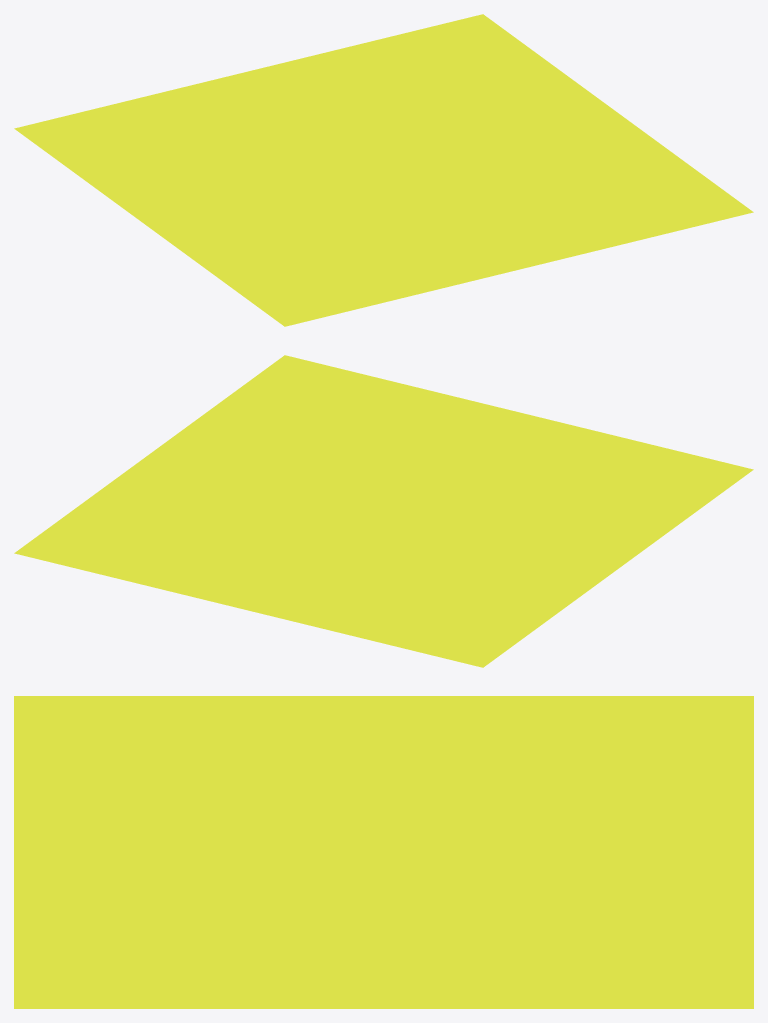
The model's file is TOP_YELLOW.gltf.
3 renders of one model, top to bottom at view 1: azimuth 30°, elevation 25°; view 2: azimuth 150°, elevation 25°; view 3: azimuth 270°, elevation 25°, orthographic. The views are drawn at different scales.
Parts seen in each view (by area): view 1: TOP; view 2: TOP; view 3: TOP.
Part boxes in pixels (x1,y1,x2,y2): TOP: (14,14,753,326); TOP: (14,355,753,667); TOP: (14,696,753,1008).
Size of the model in its own units: 1.75 by 0 by 1.75.
Materials: 1 (1 with a texture image).
